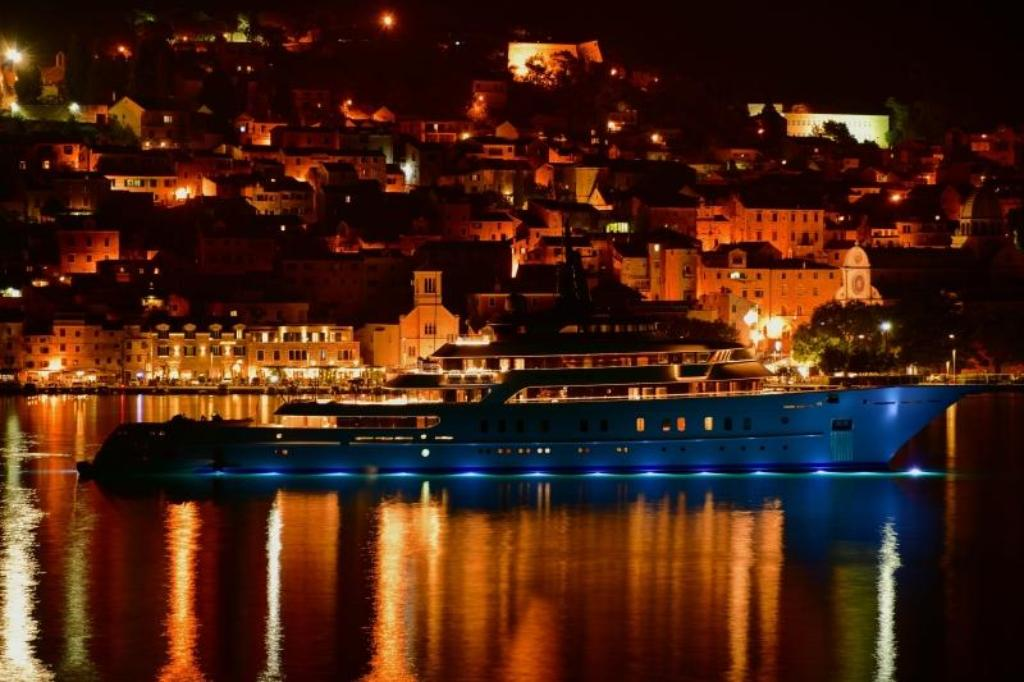PassengerShip: (64, 228, 996, 496)
